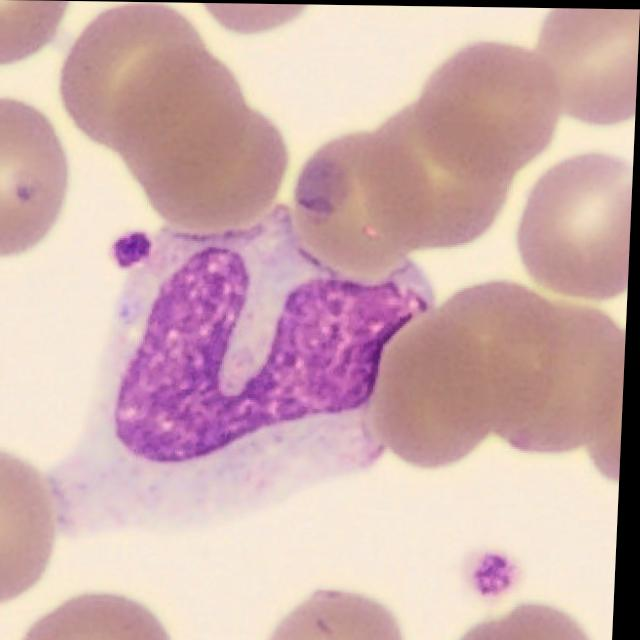Monocito: (58, 202, 436, 532)
